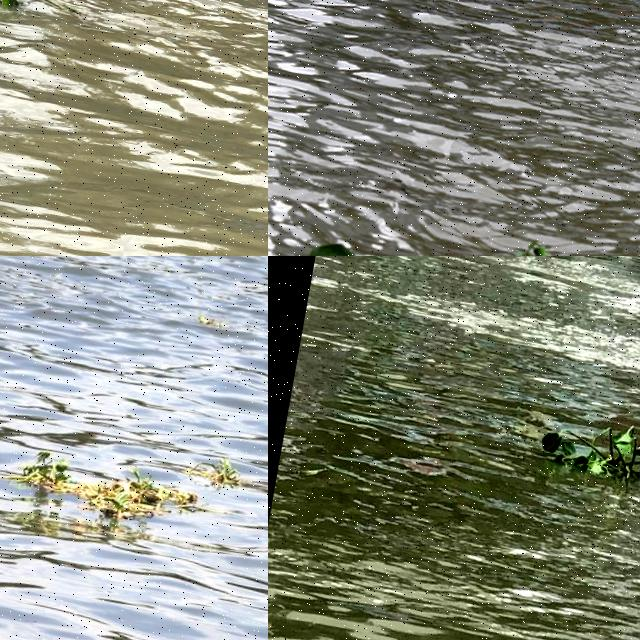water-hyacinth: (1, 445, 199, 522), (532, 405, 640, 503), (1, 1, 83, 37), (1, 1, 23, 18)
